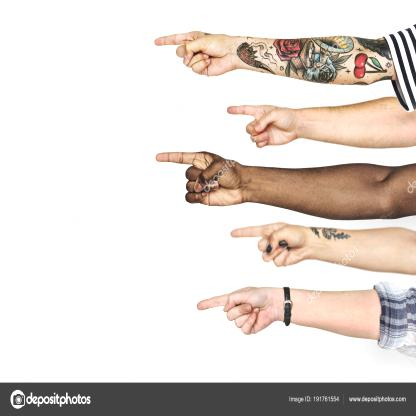Right: (144, 4, 244, 86), (149, 133, 249, 214), (191, 279, 282, 349), (213, 97, 314, 153), (227, 217, 312, 271)
